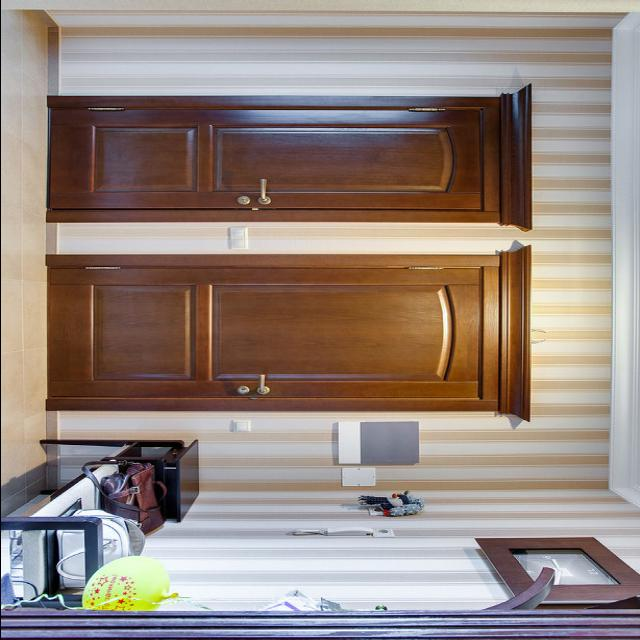close: (48, 258, 504, 408), (44, 94, 526, 225)
